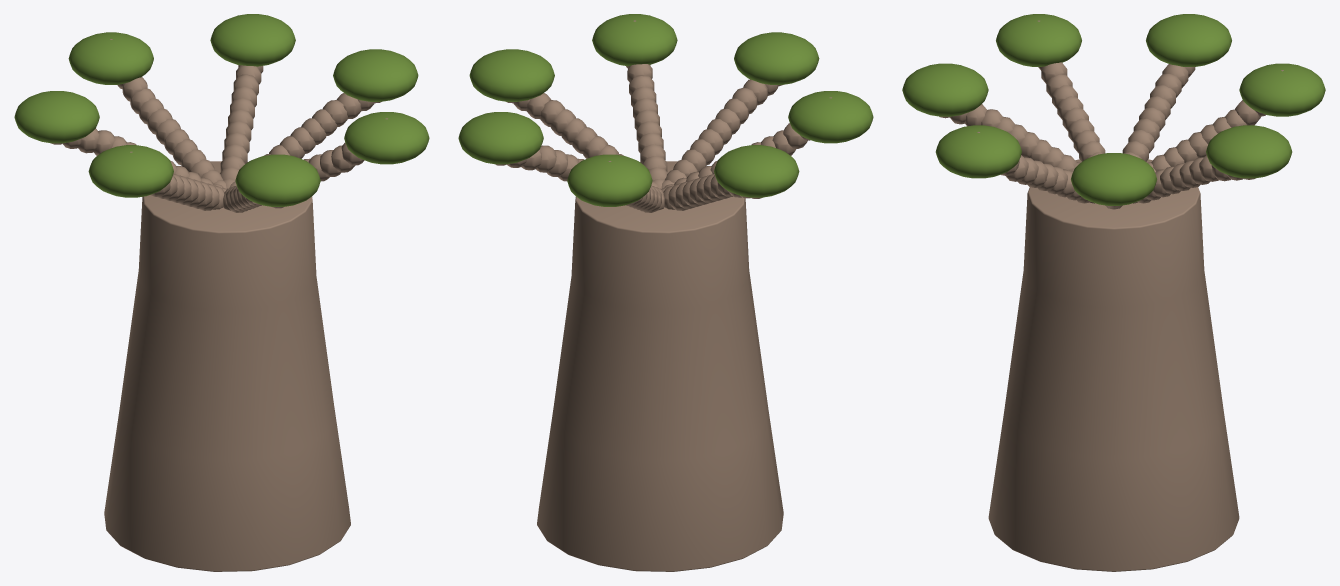
File: veg_baoba.glb
3 renders of one model, left to right at view 1: azimuth 30°, elevation 25°; view 2: azimuth 150°, elevation 25°; view 3: azimuth 270°, elevation 25°, orthographic.
Parts seen in each view (by area): view 1: veg_baoba; view 2: veg_baoba; view 3: veg_baoba.
Boxes of the visible parts, x1,y1,x2,y2 form: veg_baoba: [14, 14, 429, 571]; veg_baoba: [458, 14, 873, 571]; veg_baoba: [902, 14, 1325, 571].
Size of the model in its own units: 5.27 by 6.08 by 5.39.
